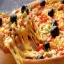olives: (47, 27, 61, 37), (8, 12, 19, 23), (19, 5, 29, 16), (42, 40, 52, 51), (46, 7, 55, 18), (37, 1, 46, 7)
pizza: (1, 1, 63, 63)
